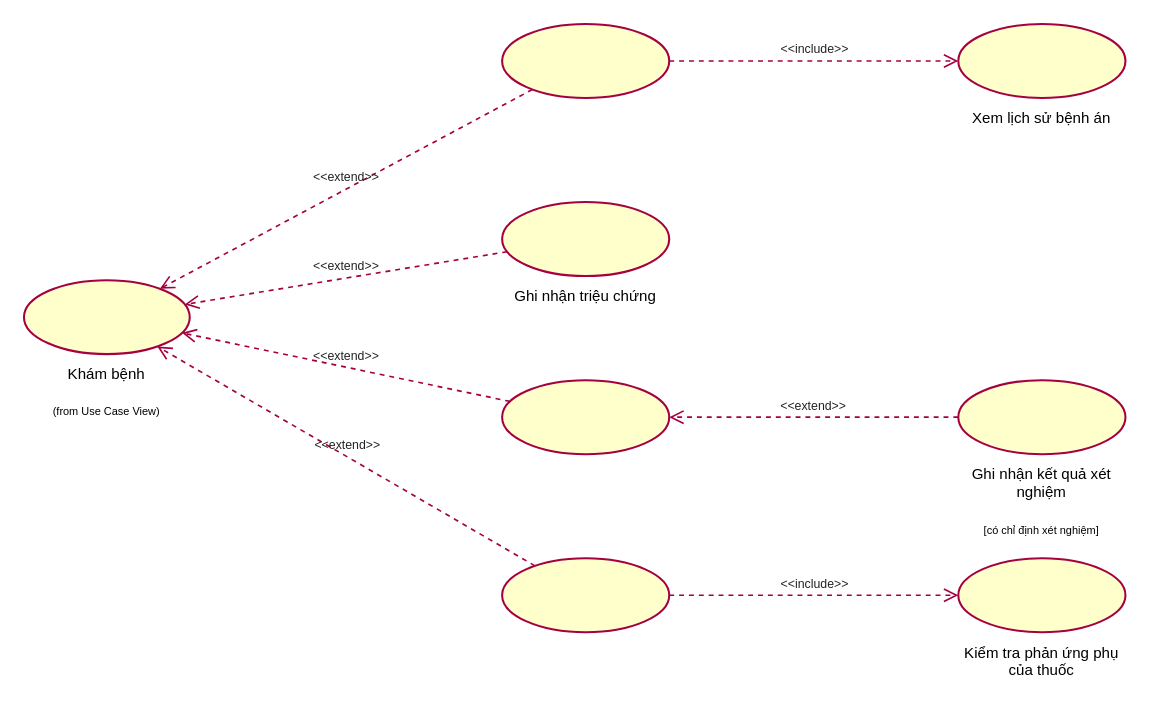
This 1151x704 diagram has some shape labels left out. The shapes that lost their labels are listed below. From the top down, each one's centre as x and y in pixels, then its label:
At point (585, 60): "Tìm hồ sơ bệnh án".
At point (585, 417): "Chỉ định xét nghiệm".
At point (585, 595): "Lập toa thuốc".
